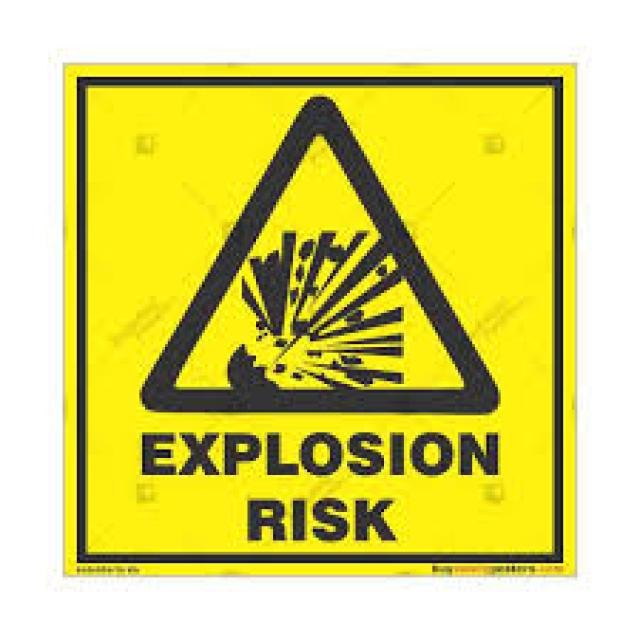explosion-risk: (137, 119, 550, 553)
